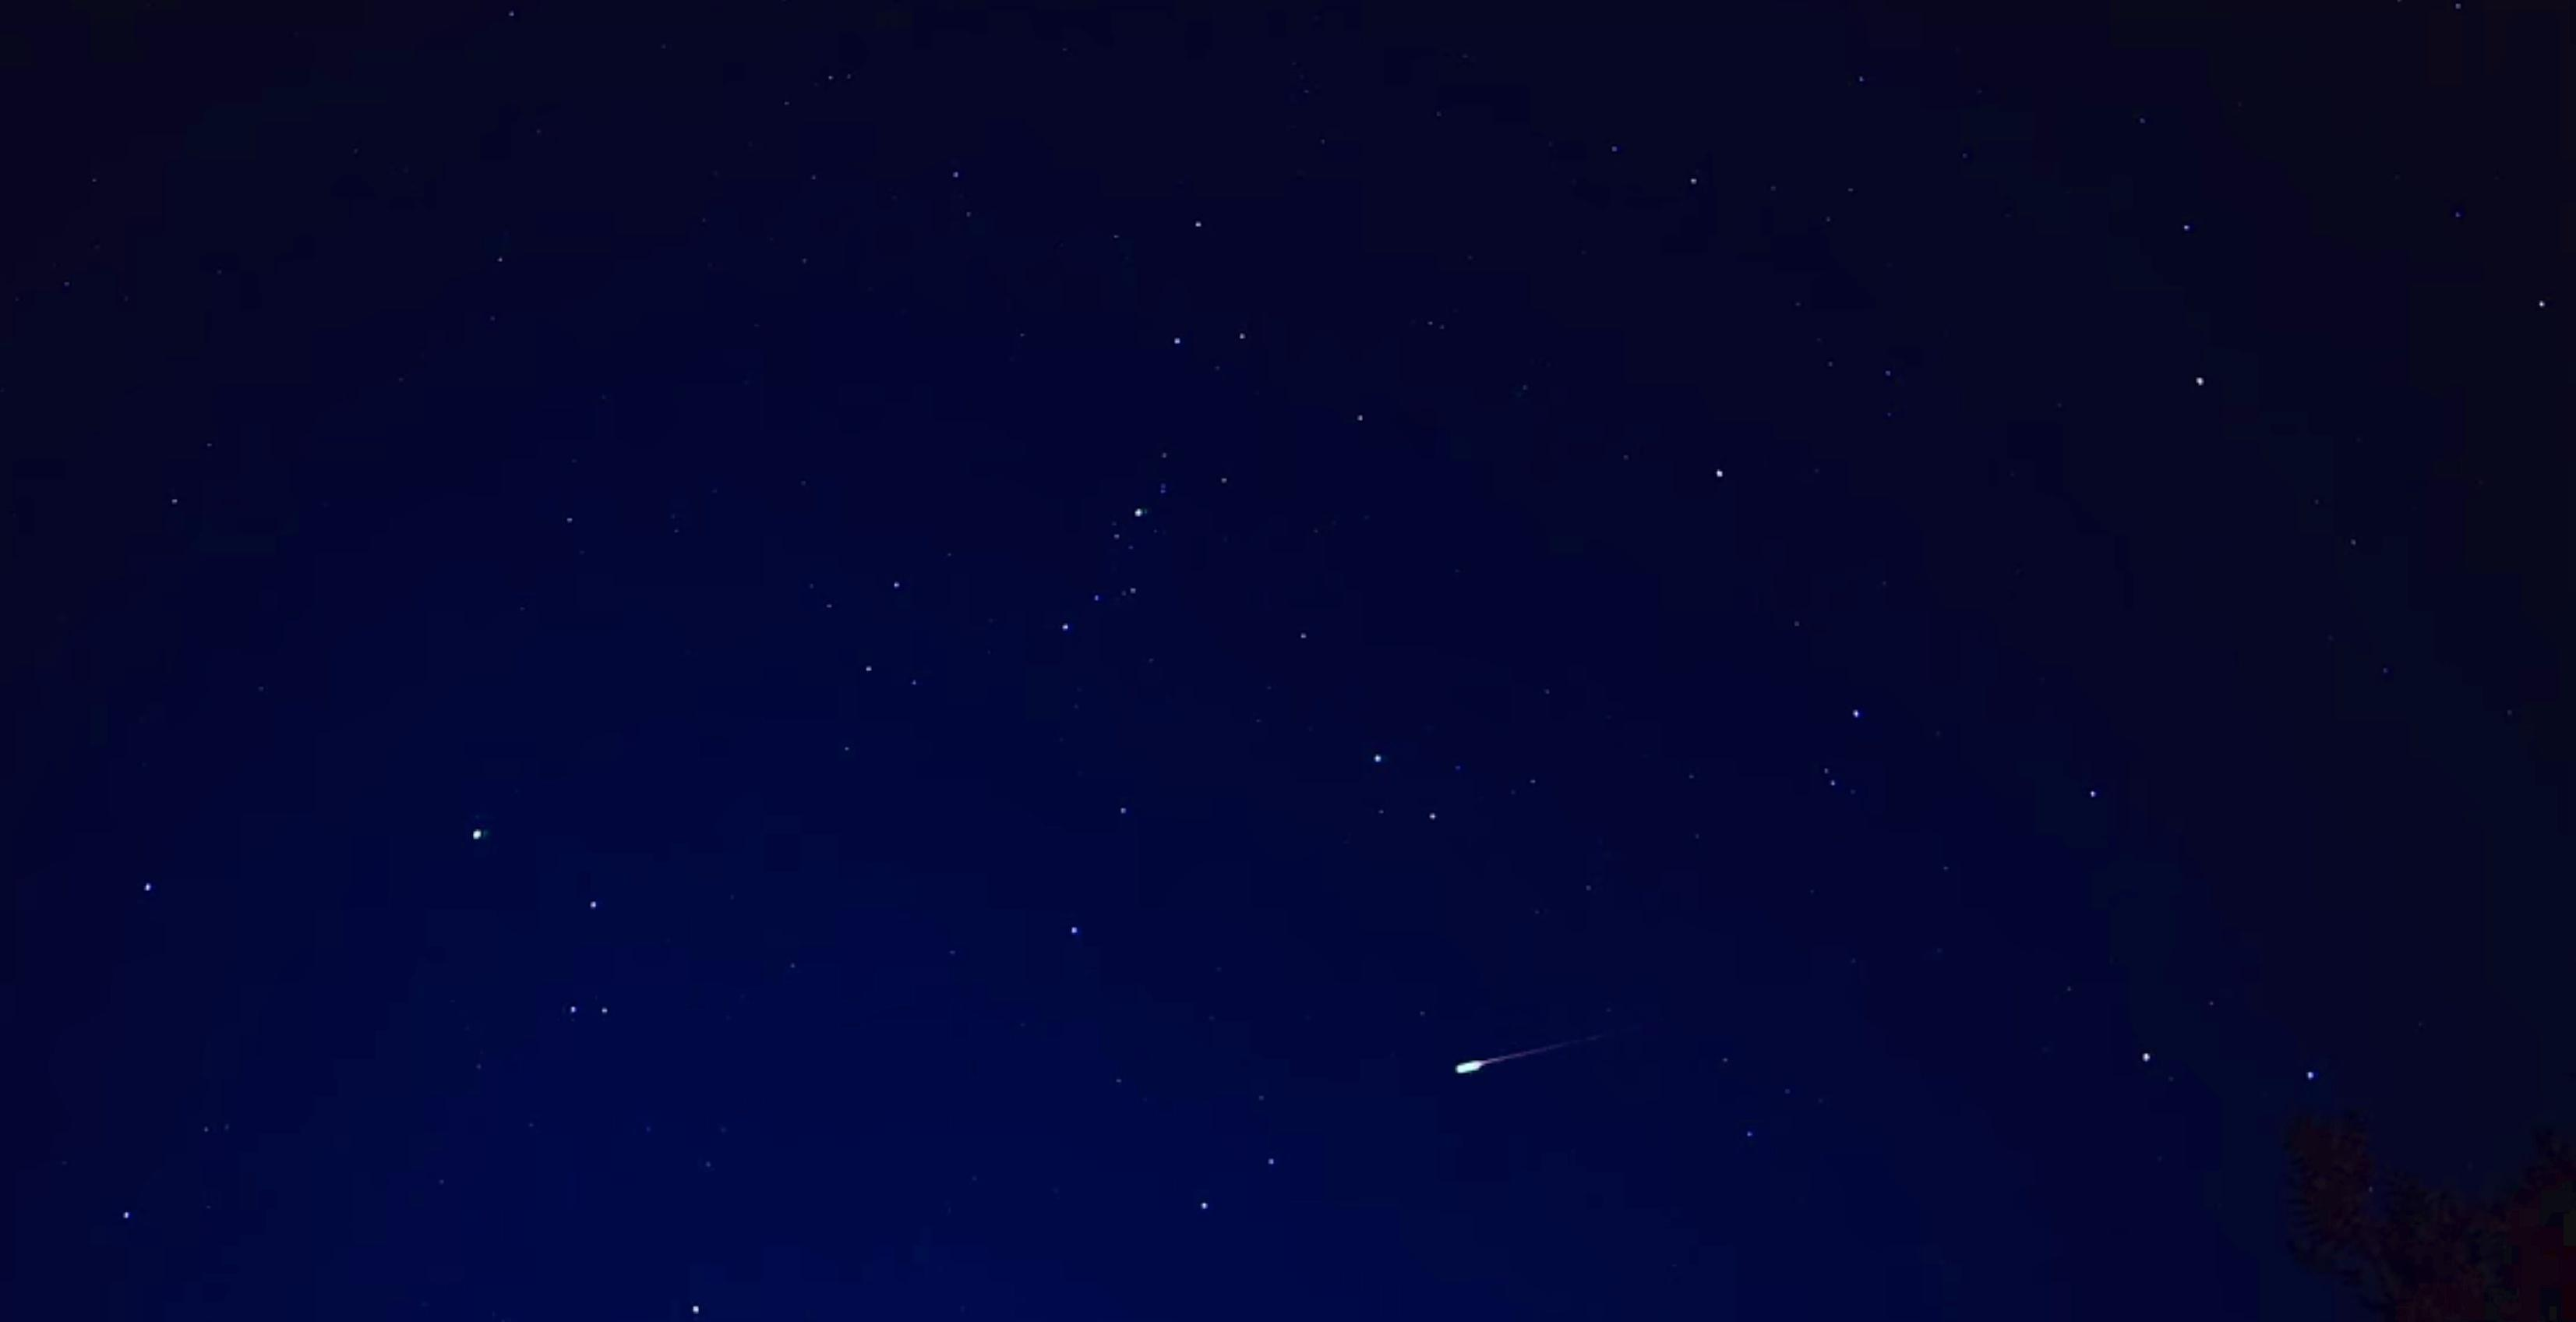meteorite: (1397, 1003, 1690, 1091)
